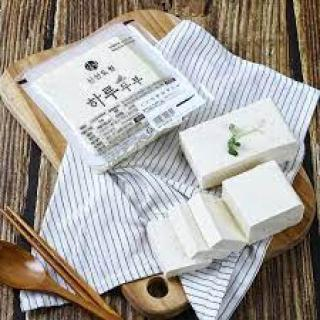Tahu: (129, 177, 320, 271)
